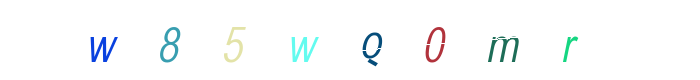0: (311, 0, 391, 80)
5: (266, 0, 346, 80)
8: (236, 0, 316, 80)
M: (395, 0, 475, 80)
Q: (275, 0, 355, 80)
R: (403, 0, 483, 80)
W: (61, 0, 141, 80), (272, 0, 352, 80)
